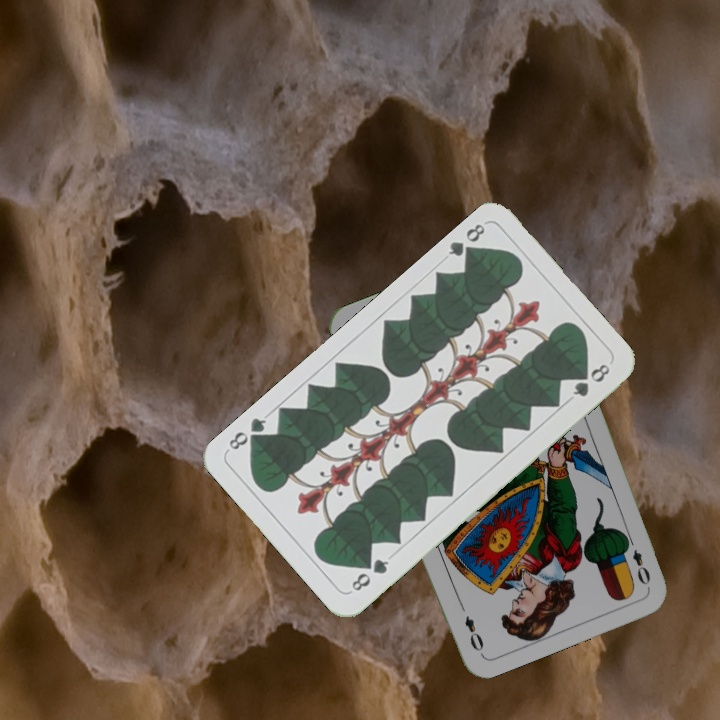EO: (622, 532, 653, 588)
G8: (444, 219, 488, 263), (347, 554, 392, 594)
